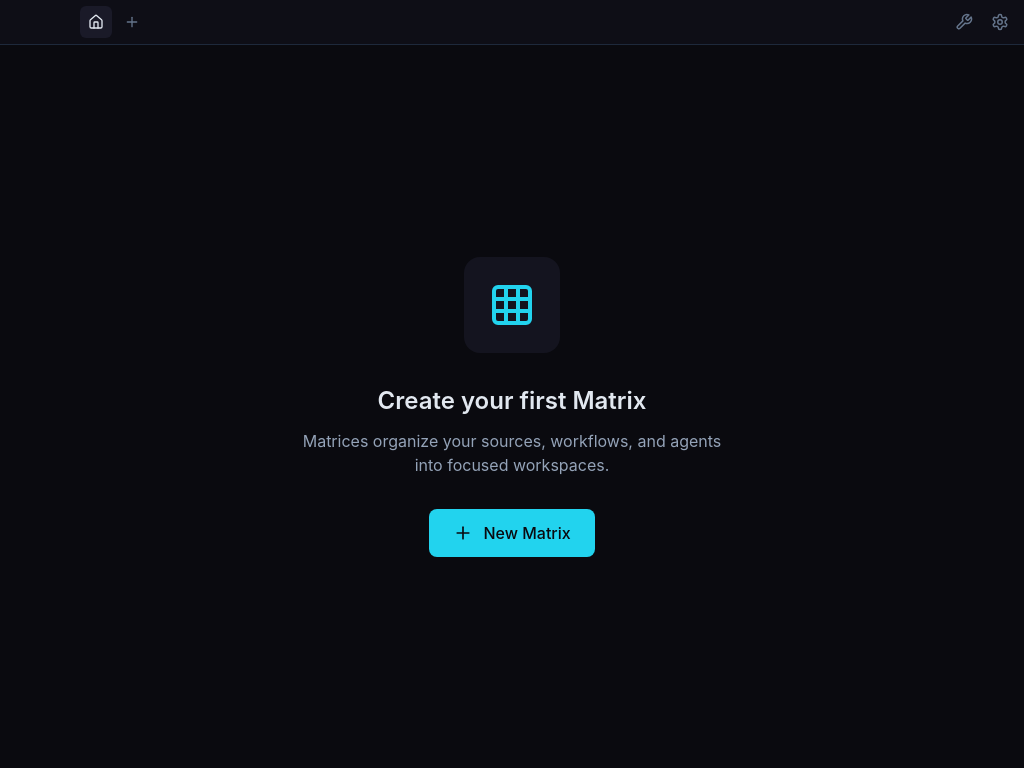
Test: App › opens create form when + button is clicked
Click the button named "Create new matrix": [132, 22] box top-left (116, 6), bottom-right (148, 38)
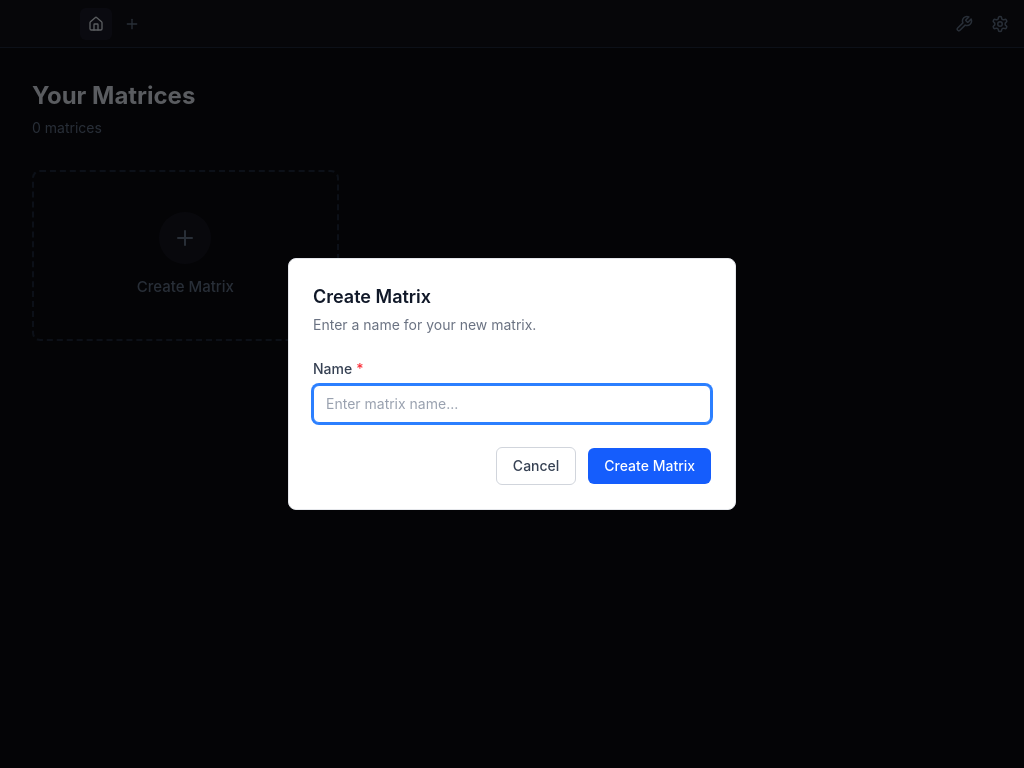
Expected: the dialog is shown
